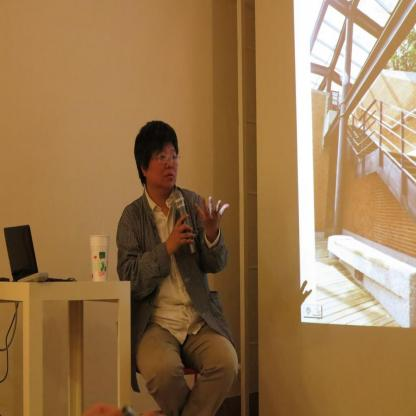board: (3, 224, 68, 280)
